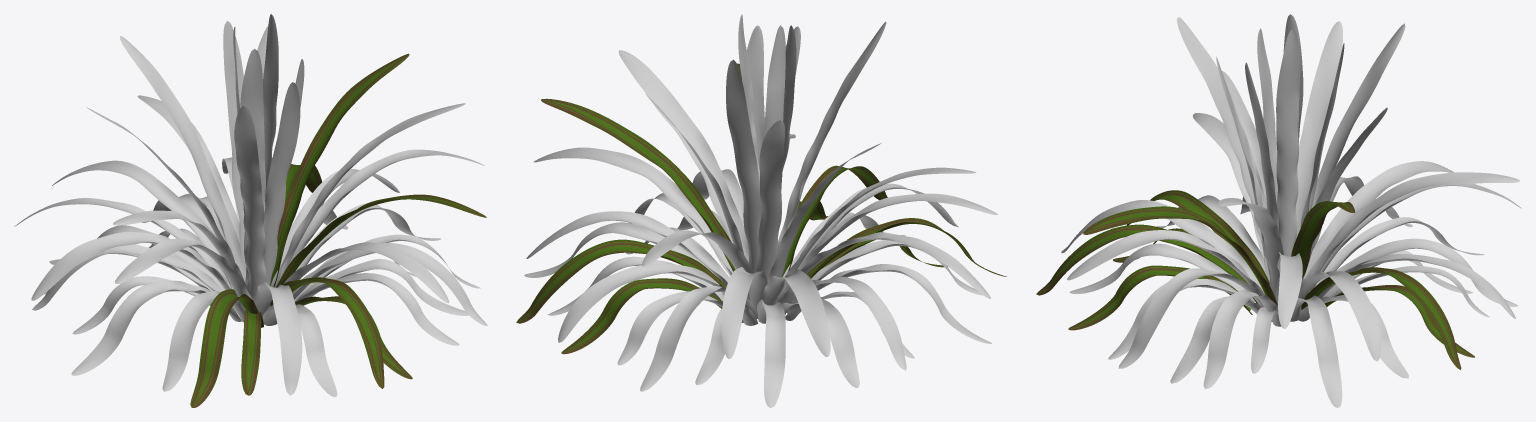
Rendered from phormium_tenax_2.fbx.
The picture shows the model from 3 angles, left to right: view 1: azimuth 30°, elevation 25°; view 2: azimuth 150°, elevation 25°; view 3: azimuth 270°, elevation 25°; orthographic projection. The views are drawn at different scales.
Visible parts, largest first — view 1: Phormium_tenax_A002; view 2: Phormium_tenax_A002; view 3: Phormium_tenax_A002.
Part boxes in pixels (<box>): Phormium_tenax_A002: <box>14,14,487,407</box>; Phormium_tenax_A002: <box>516,14,1006,407</box>; Phormium_tenax_A002: <box>1036,14,1521,407</box>.
Bounding box in the file's own units: 1244 × 764 × 1167.
